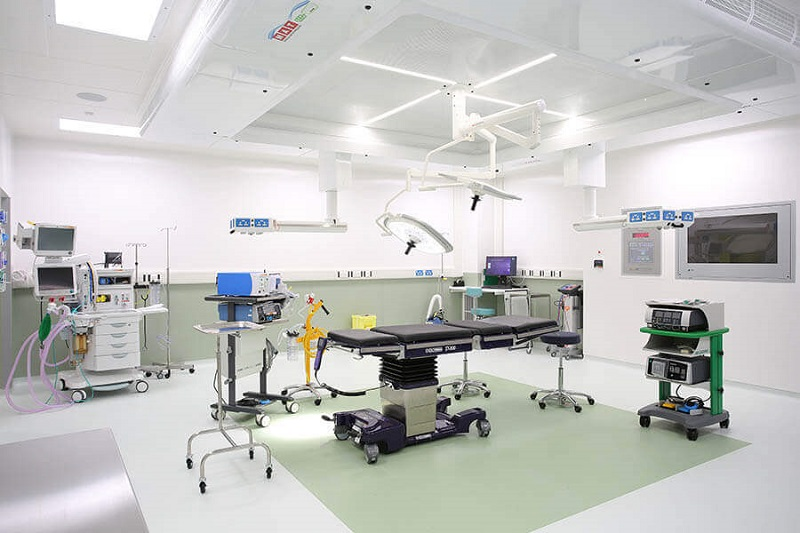bedside_monitor: (33, 264, 77, 294), (35, 224, 75, 257)
breathing_tube: (5, 314, 75, 413)
chair: (530, 332, 595, 415), (467, 285, 496, 319)
computer: (485, 253, 519, 277)
drawer: (93, 322, 139, 370)
electrosurgical_unit: (211, 300, 291, 326)
iv_pole: (155, 223, 200, 378), (124, 240, 146, 310)
operating_bed: (314, 314, 559, 464)
surgical_light: (439, 171, 522, 215), (373, 212, 454, 257)
table: (1, 426, 150, 533)
utility_cart: (184, 320, 275, 495)
ventilator: (62, 269, 145, 383)
